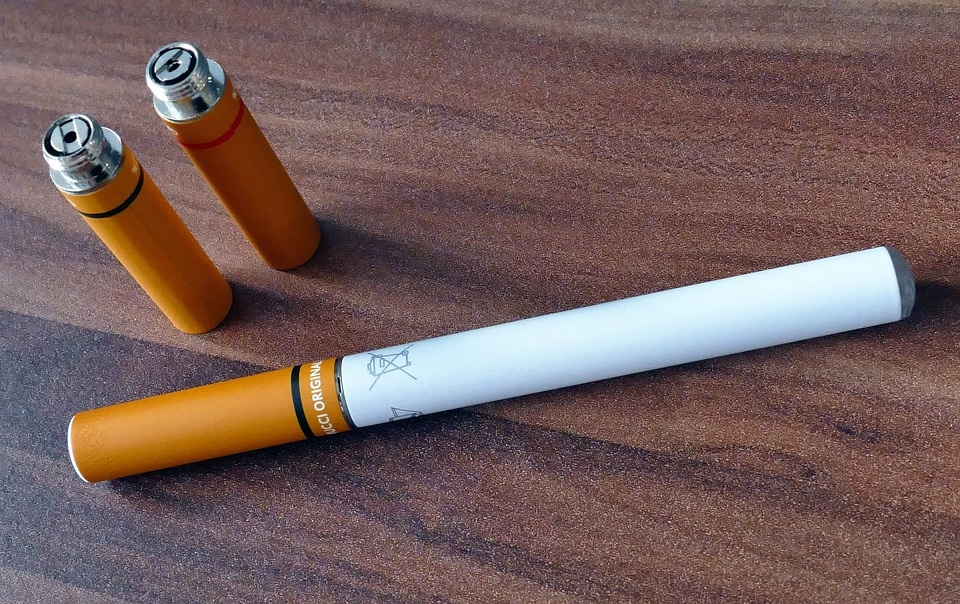sigaretta: (65, 242, 905, 481)
